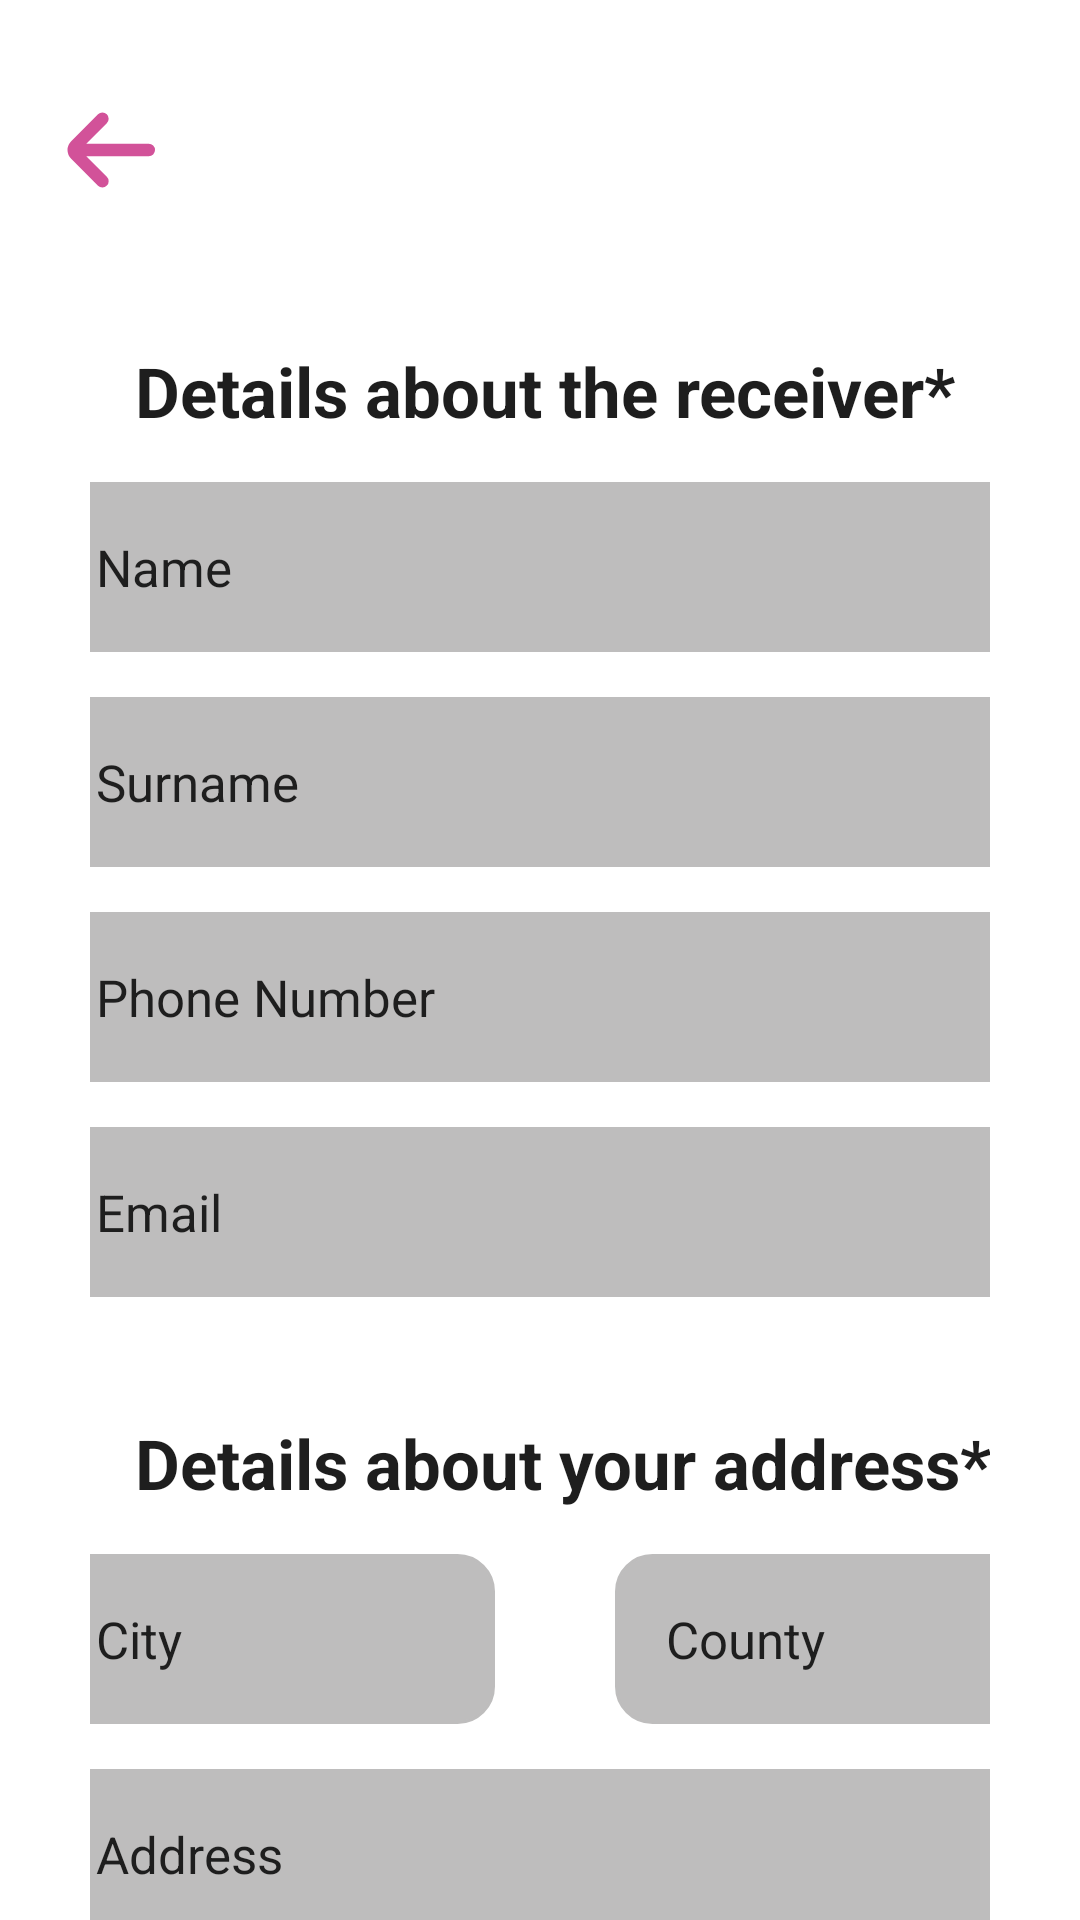

Screen size 1080px×1920px. Icon name, then its center in pixels as [x,y]:
Back: [111,150]
